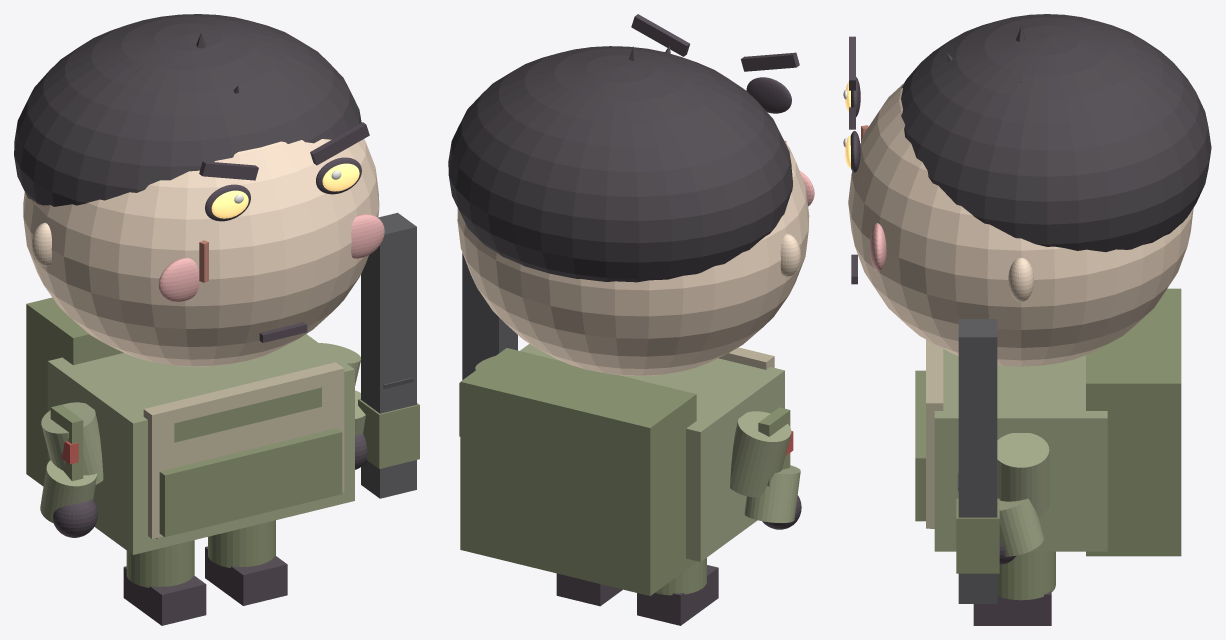
File: veteran.glb
3 views of the same model, side by side, from view 1: azimuth 30°, elevation 25°; view 2: azimuth 150°, elevation 25°; view 3: azimuth 270°, elevation 25° (orthographic). The views are drawn at different scales.
Parts seen in each view (by area): view 1: Head, HairCap, Coat, Vest, RifleBody, Pack, VestPouch_0, VestPouch_1, VestPouch_2, RifleStock, VestStrap, Shoe_L (+17 smaller); view 2: HairCap, Pack, Head, Coat, UpperArm_L, RifleBody, Shoe_L, Forearm_L, Shoe_R, EyeSocket_L, Leg_L, Brow_R (+4 smaller); view 3: HairCap, Head, Pack, Coat, RifleBody, UpperArm_R, RifleStock, Leg_R, Vest, Forearm_R, Shoe_R, VestPouch_2 (+2 smaller).
Boxes of the visible parts, left/top/right/bottom form: Head: left=23, top=139, right=379, bottom=366; HairCap: left=14, top=14, right=361, bottom=206; Coat: left=47, top=334, right=354, bottom=554; Vest: left=143, top=362, right=344, bottom=538; RifleBody: left=361, top=212, right=416, bottom=498; Pack: left=26, top=297, right=123, bottom=486; VestPouch_0: left=159, top=456, right=231, bottom=537; VestPouch_1: left=215, top=443, right=286, bottom=523; VestPouch_2: left=270, top=428, right=342, bottom=507; RifleStock: left=358, top=398, right=419, bottom=468; VestStrap: left=174, top=387, right=321, bottom=442; Shoe_L: left=123, top=566, right=206, bottom=625; HairCap: left=448, top=46, right=792, bottom=282; Pack: left=460, top=348, right=696, bottom=595; Head: left=457, top=139, right=809, bottom=376; Coat: left=520, top=344, right=784, bottom=561; UpperArm_L: left=730, top=411, right=791, bottom=497; RifleBody: left=462, top=253, right=517, bottom=379; Shoe_L: left=637, top=565, right=718, bottom=625; Forearm_L: left=744, top=465, right=800, bottom=522; Shoe_R: left=556, top=573, right=622, bottom=606; EyeSocket_L: left=746, top=77, right=791, bottom=113; Leg_L: left=655, top=558, right=706, bottom=595; Brow_R: left=631, top=14, right=689, bottom=56; HairCap: left=901, top=14, right=1211, bottom=252; Head: left=848, top=82, right=1193, bottom=366; Pack: left=1086, top=288, right=1181, bottom=556; Coat: left=934, top=349, right=1107, bottom=551; RifleBody: left=958, top=319, right=997, bottom=603; UpperArm_R: left=997, top=433, right=1049, bottom=517; RifleStock: left=956, top=498, right=999, bottom=573; Leg_R: left=997, top=551, right=1055, bottom=600; Vest: left=926, top=339, right=943, bottom=528; Forearm_R: left=999, top=498, right=1043, bottom=556; Shoe_R: left=973, top=591, right=1051, bottom=625; VestPouch_2: left=915, top=428, right=925, bottom=521.
Bounding box in the file's own units: 1.32 × 2 × 1.17.
